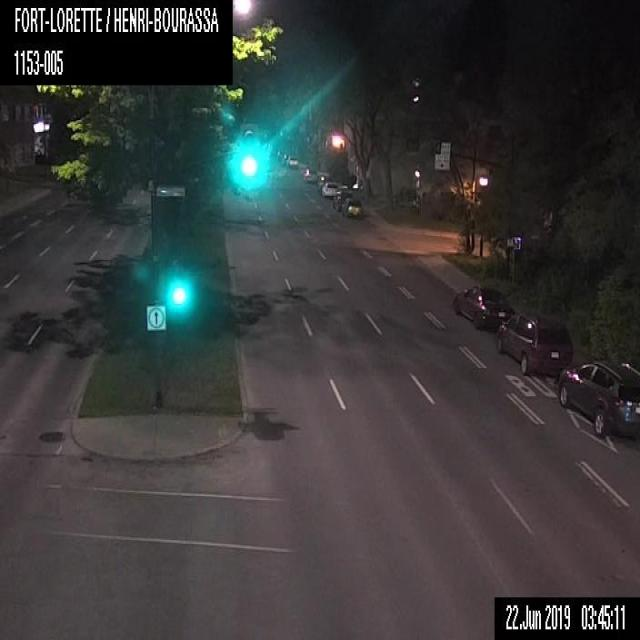vehicle: (555, 361, 639, 440), (497, 313, 573, 375), (451, 284, 516, 328), (342, 198, 364, 220), (333, 188, 353, 212), (315, 174, 330, 191), (320, 181, 338, 195), (286, 154, 299, 170), (302, 168, 316, 180)
